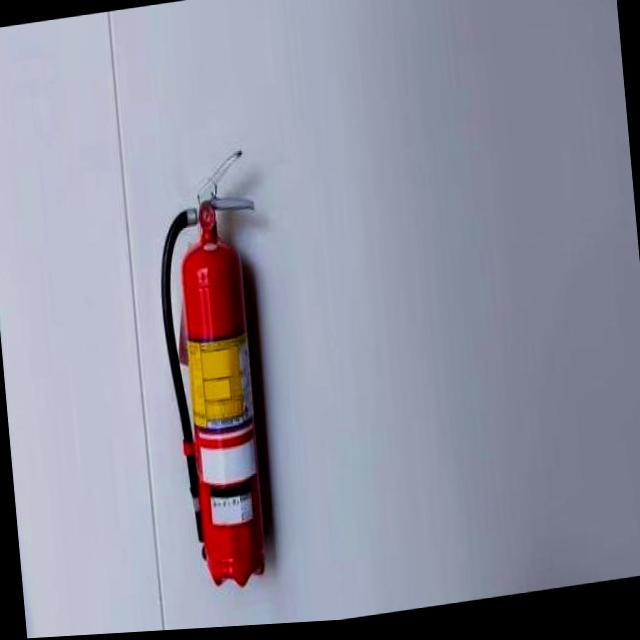FireExtinguisher: (144, 143, 288, 603)
